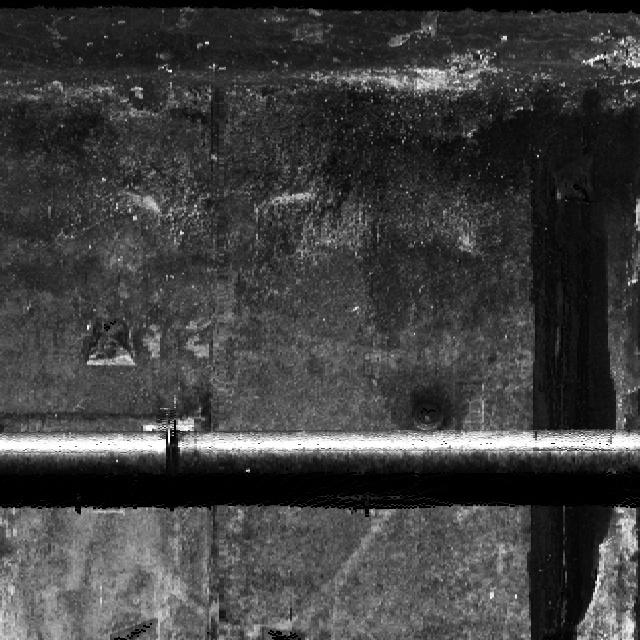leakage: (465, 75, 637, 426), (517, 500, 618, 639)
